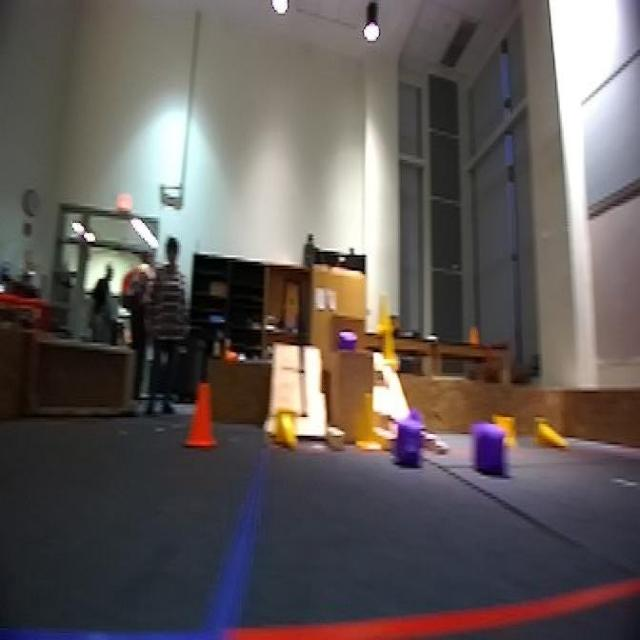frc_cone: (355, 390, 385, 453), (531, 417, 566, 451), (378, 323, 400, 373), (274, 410, 300, 450), (378, 303, 394, 334), (490, 410, 515, 429)
frc_cube: (474, 427, 508, 473), (389, 417, 421, 463), (334, 332, 356, 352)
